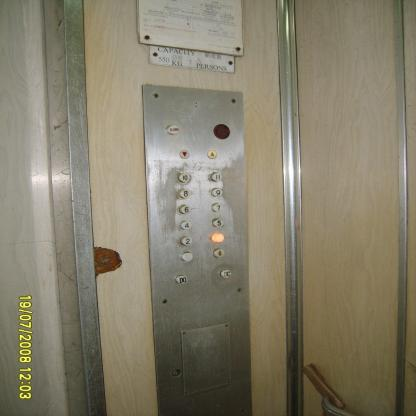1: (211, 247, 226, 258)
10: (176, 172, 190, 184)
11: (209, 172, 223, 182)
2: (180, 236, 194, 247)
4: (178, 219, 192, 230)
5: (211, 217, 225, 228)
6: (178, 204, 192, 215)
7: (210, 202, 224, 213)
8: (178, 188, 192, 199)
9: (210, 186, 224, 198)
DC: (218, 268, 232, 279)
DO: (174, 274, 188, 284)
M: (180, 251, 194, 262)
down: (178, 148, 192, 160)
empty: (212, 122, 232, 140), (210, 232, 224, 242)
text_alarm bell: (166, 124, 180, 136)
up: (204, 148, 219, 160)
